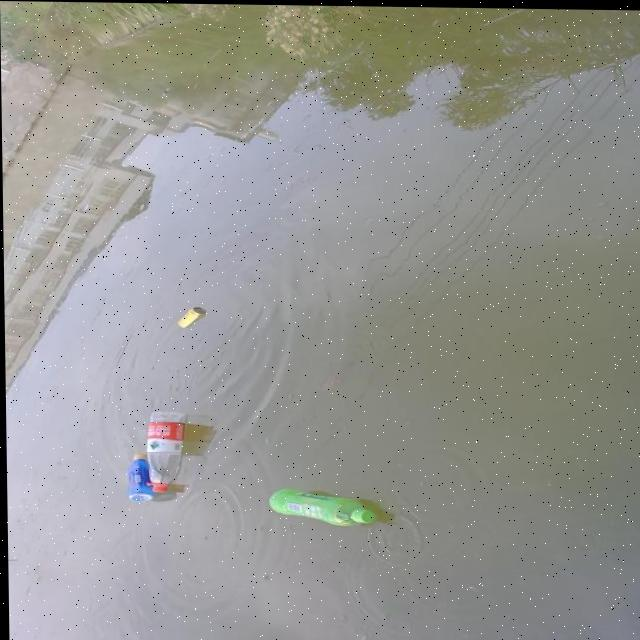bottle: (253, 478, 379, 537), (143, 403, 188, 496), (123, 438, 154, 506)
